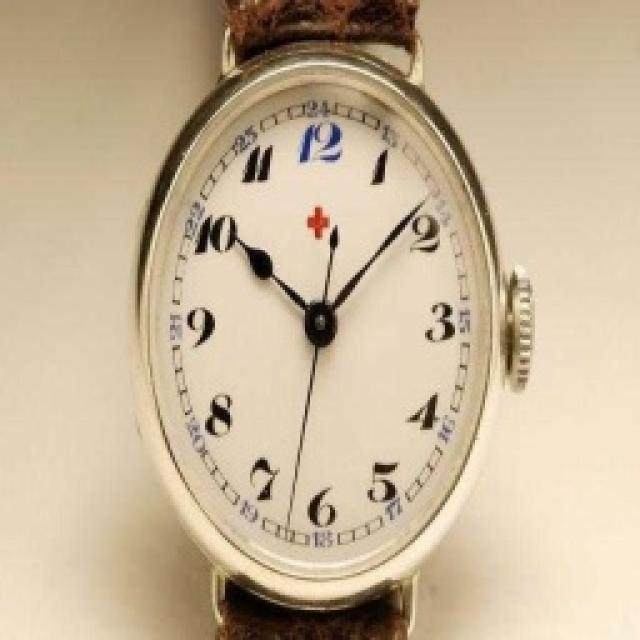saat: (122, 0, 540, 640)
